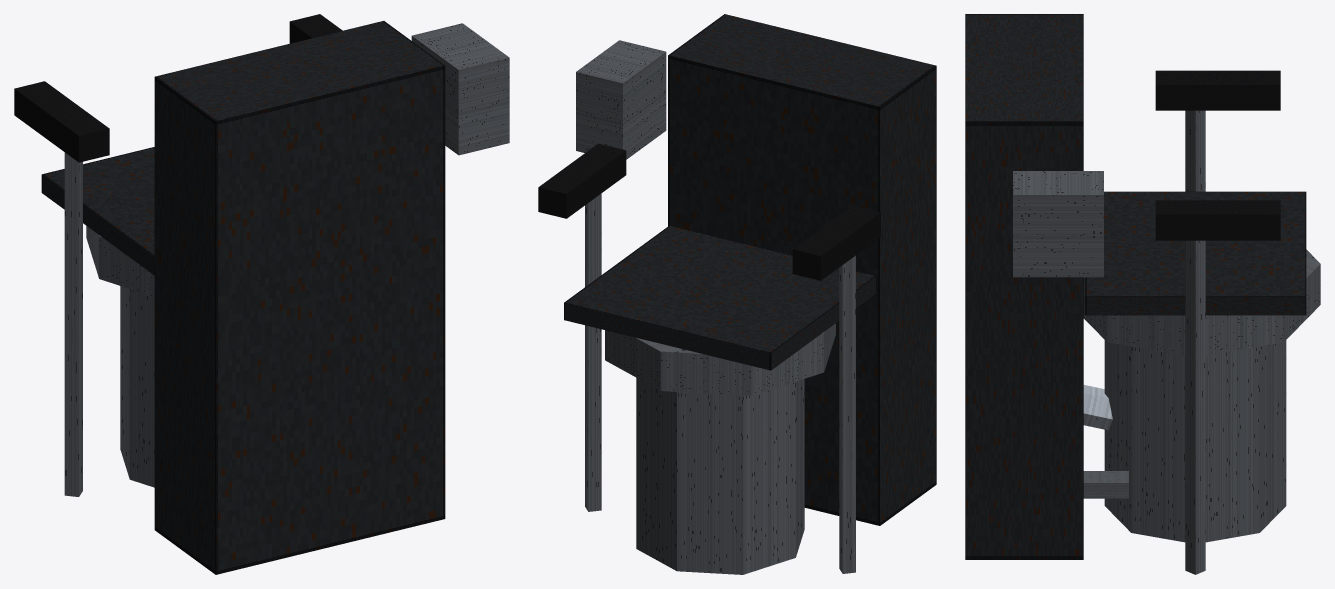
File: space_toilet_command_bridge.glb
3 views of the same model, side by side, from view 1: azimuth 30°, elevation 25°; view 2: azimuth 150°, elevation 25°; view 3: azimuth 270°, elevation 25° (orthographic). The views are drawn at different scales.
Parts seen in each view (by area): view 1: space_toilet_command_bridge; view 2: space_toilet_command_bridge; view 3: space_toilet_command_bridge.
Boxes of the visible parts, left/top/right/bottom form: space_toilet_command_bridge: left=14, top=14, right=509, bottom=574; space_toilet_command_bridge: left=538, top=14, right=936, bottom=574; space_toilet_command_bridge: left=965, top=14, right=1320, bottom=574.
Bounding box in the file's own units: 0.7 × 0.85 × 0.625.
5 materials, 5 textured.
